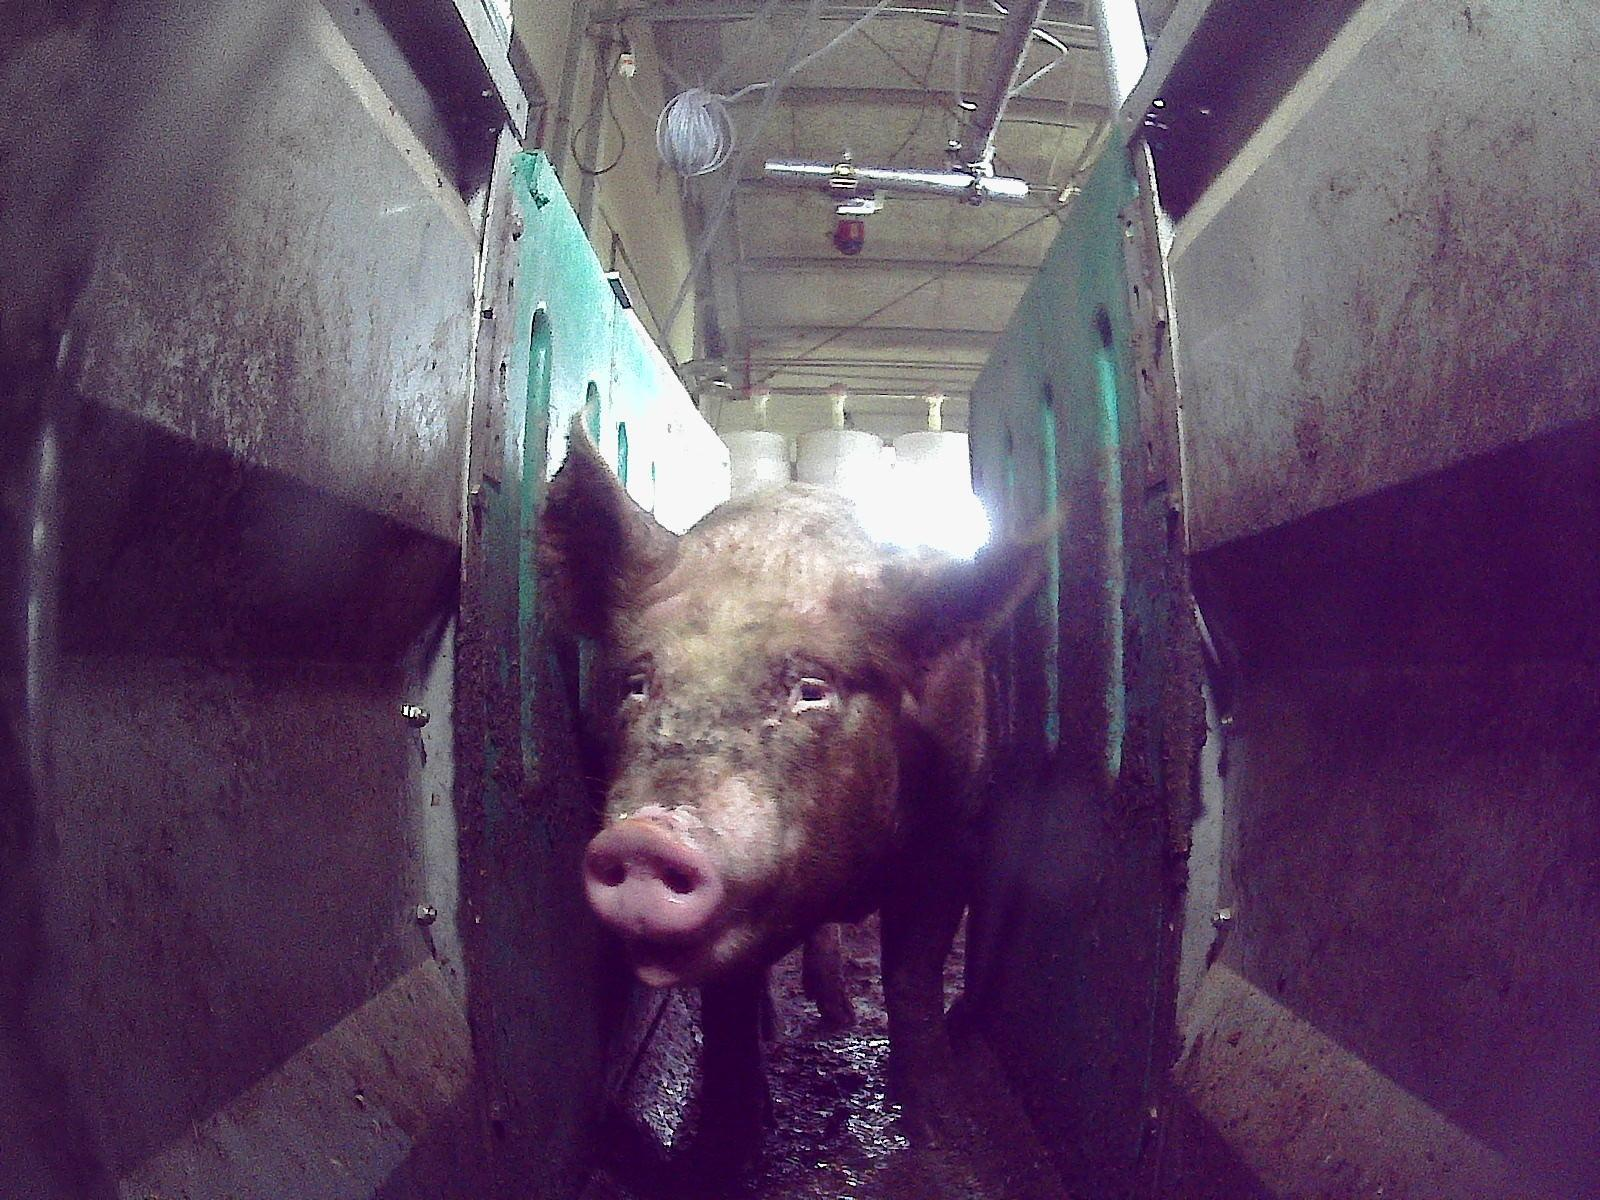Face: (585, 566, 892, 976)
